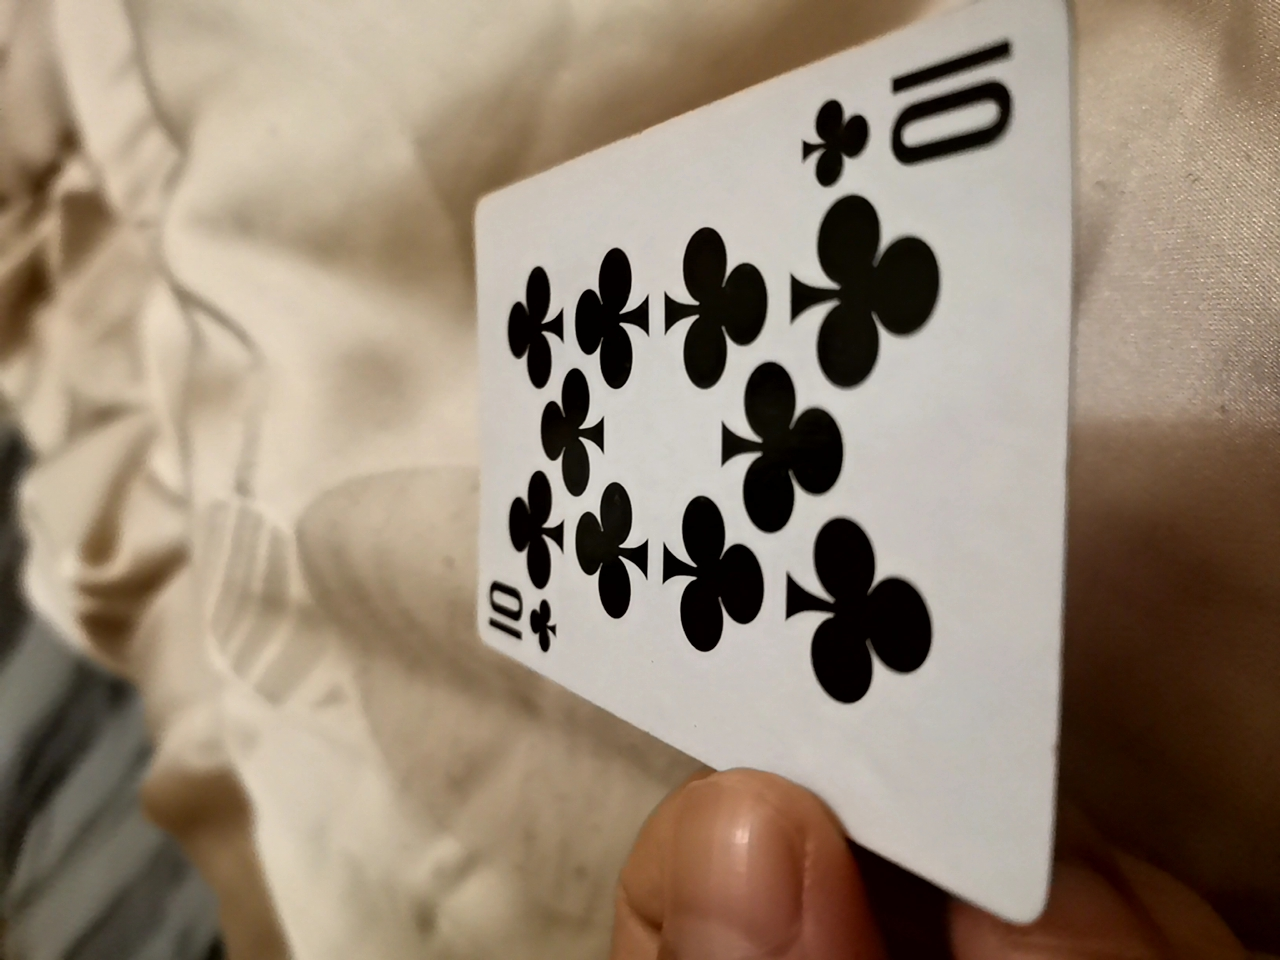mh 10: (461, 4, 1060, 913)
